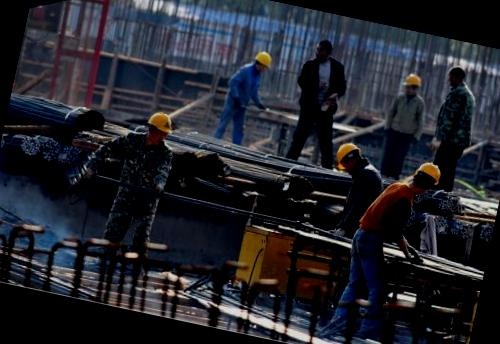no_helmet: (442, 60, 472, 94), (308, 38, 336, 68)
